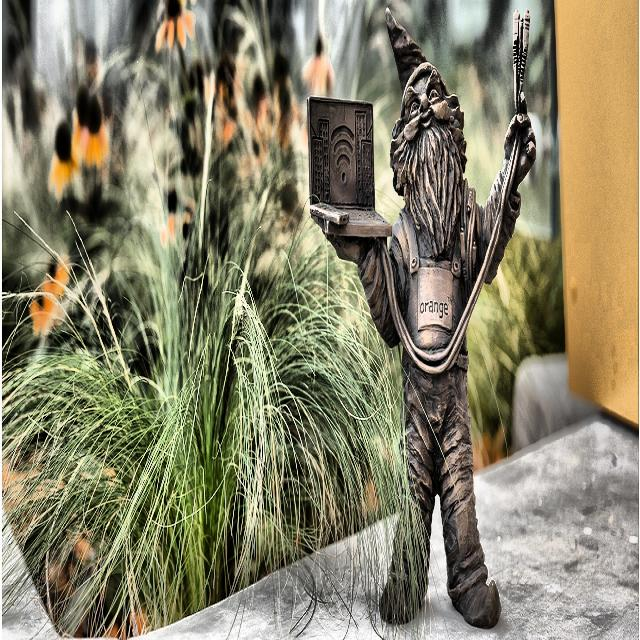Krasnal_Teleclaw: (308, 9, 535, 627)
